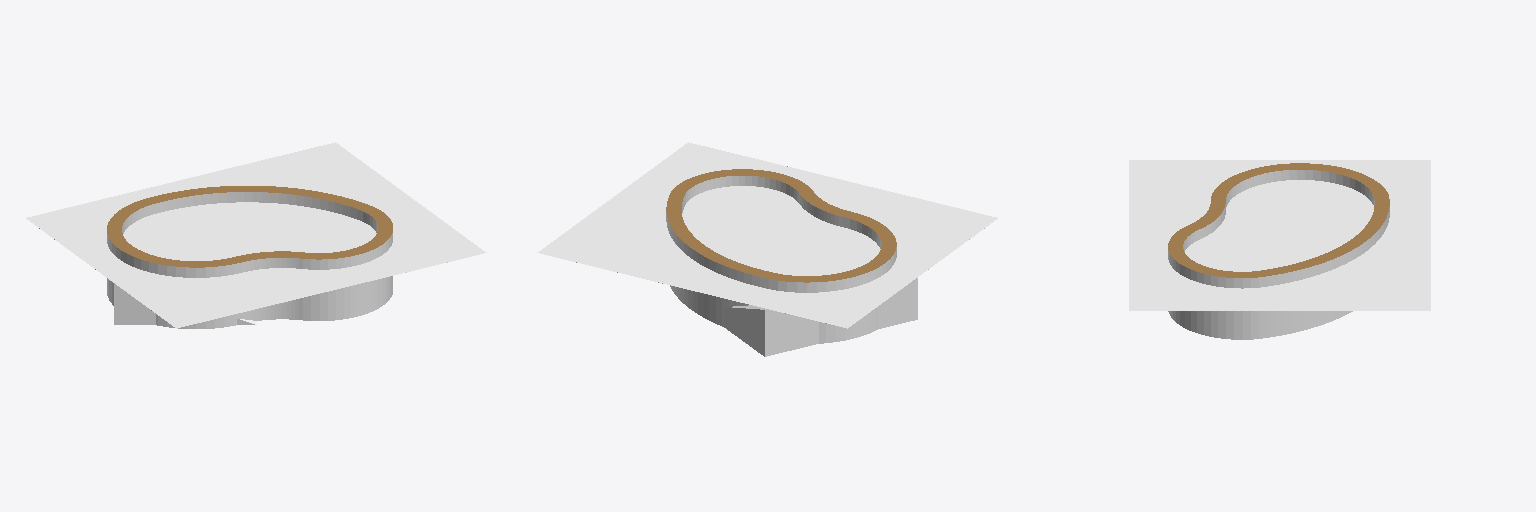
File: SwimmingPool.obj
3 renders of one model, left to right at view 1: azimuth 30°, elevation 25°; view 2: azimuth 150°, elevation 25°; view 3: azimuth 270°, elevation 25°, orthographic.
Visible parts, largest first — view 1: room_2_39, room_1_1_1_28, wall_2_8, wall_1_5, wall_4_20, wall_3_14, Mesh_25, wall_4_21, wall_1_3, wall_1_6, wall_4_24, wall_2_9; view 2: room_2_39, room_1_1_1_28, Triangle_26, wall_1_2, wall_4_20, Mesh_1_27, wall_2_11, wall_4_21, wall_1_3, wall_1_6, wall_4_24, wall_2_9; view 3: room_2_39, room_1_1_1_28, wall_2_8, wall_1_2, wall_4_23, wall_4_21, wall_1_3, wall_1_6, wall_4_24, wall_2_9.
Boxes of the visible parts, x1,y1,x2,y2 form: room_2_39: [26, 142, 485, 328]; room_1_1_1_28: [123, 202, 376, 260]; wall_2_8: [303, 233, 392, 320]; wall_1_5: [147, 192, 362, 221]; wall_4_20: [107, 234, 242, 328]; wall_3_14: [243, 258, 302, 320]; Mesh_25: [114, 283, 254, 324]; wall_4_21: [107, 201, 241, 267]; wall_1_3: [139, 186, 372, 208]; wall_1_6: [143, 189, 366, 210]; wall_4_24: [114, 204, 238, 263]; wall_2_9: [303, 207, 392, 259]; room_2_39: [538, 142, 997, 328]; room_1_1_1_28: [682, 186, 880, 275]; Triangle_26: [732, 278, 917, 356]; wall_1_2: [666, 212, 777, 326]; wall_4_20: [778, 247, 896, 343]; Mesh_1_27: [724, 307, 764, 356]; wall_2_11: [686, 176, 798, 202]; wall_4_21: [778, 211, 896, 282]; wall_1_3: [666, 191, 779, 279]; wall_1_6: [674, 192, 782, 276]; wall_4_24: [781, 214, 888, 278]; wall_2_9: [672, 169, 812, 191]; room_2_39: [1129, 160, 1430, 310]; room_1_1_1_28: [1185, 180, 1373, 271]; wall_2_8: [1168, 250, 1258, 339]; wall_1_2: [1259, 207, 1389, 338]; wall_4_23: [1226, 170, 1373, 206]; wall_4_21: [1211, 163, 1387, 201]; wall_1_3: [1257, 194, 1389, 276]; wall_1_6: [1255, 195, 1381, 273]; wall_4_24: [1218, 166, 1380, 201]; wall_2_9: [1168, 226, 1258, 277].
Bounding box in the file's own units: 949 × 180 × 800.